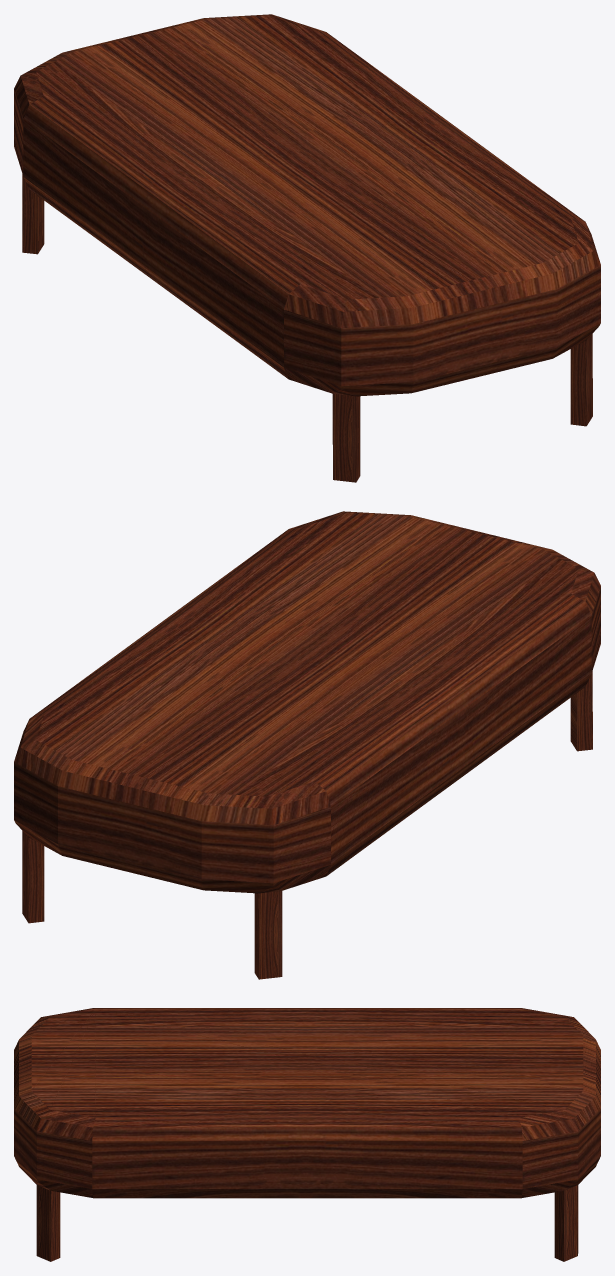
The model's file is Mesa_de_centro_1.fbx.
The picture shows the model from 3 angles, top to bottom: view 1: azimuth 30°, elevation 25°; view 2: azimuth 150°, elevation 25°; view 3: azimuth 270°, elevation 25°; orthographic projection. The views are drawn at different scales.
Parts seen in each view (by area): view 1: Plane.047; view 2: Plane.047; view 3: Plane.047.
Part boxes in pixels (x1,y1,x2,y2): Plane.047: [14, 14, 600, 482]; Plane.047: [14, 511, 600, 979]; Plane.047: [14, 1008, 600, 1261].
Size of the model in its own units: 140 by 77.03 by 280.
